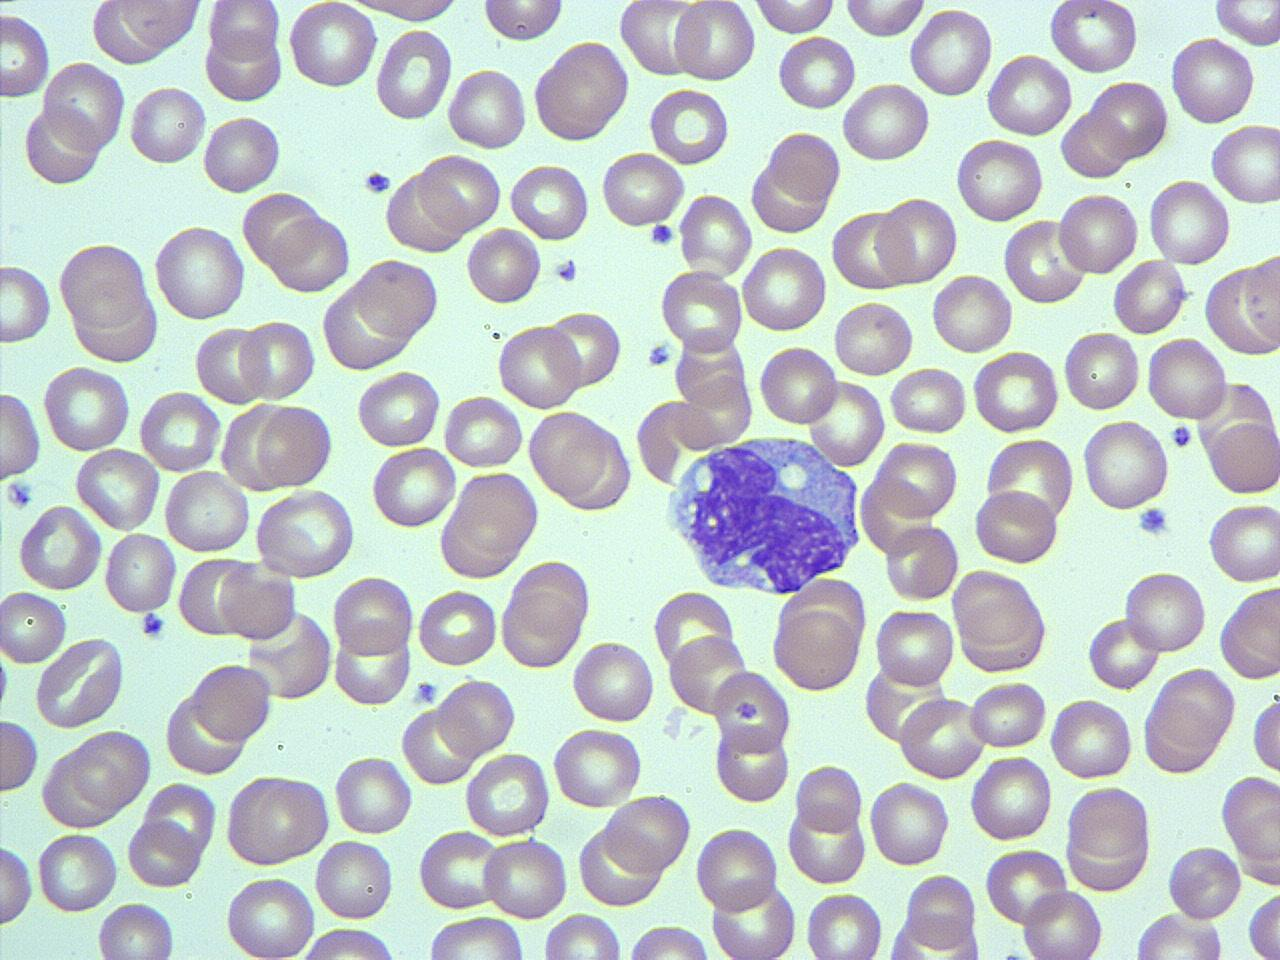Platelets: (1136, 504, 1170, 538), (4, 478, 36, 512), (646, 339, 676, 371), (138, 608, 167, 640), (412, 678, 440, 708), (362, 169, 393, 196), (648, 222, 678, 248), (552, 256, 579, 285), (1170, 423, 1194, 450)
RBC: (532, 38, 632, 144), (949, 566, 1051, 669), (222, 772, 331, 868), (440, 471, 539, 576), (980, 434, 1076, 536), (253, 486, 358, 580), (152, 221, 248, 322), (499, 564, 590, 670), (1081, 416, 1173, 514), (768, 600, 863, 694), (32, 634, 125, 730), (952, 134, 1046, 226), (222, 871, 318, 960), (1168, 33, 1258, 128), (286, 1, 380, 91), (906, 5, 994, 101), (56, 239, 148, 330), (739, 243, 828, 336), (41, 58, 125, 157), (1147, 174, 1233, 270), (41, 362, 132, 452), (368, 442, 458, 532), (15, 501, 104, 593), (840, 78, 932, 165), (692, 824, 780, 916), (1122, 566, 1208, 658), (550, 726, 646, 810), (464, 748, 552, 838), (161, 469, 252, 557), (1001, 214, 1087, 306), (526, 406, 610, 501), (898, 692, 986, 782), (658, 266, 746, 356), (495, 322, 583, 410), (570, 635, 656, 726), (875, 193, 959, 284), (1144, 334, 1230, 424), (1048, 694, 1134, 784), (374, 25, 452, 124), (73, 446, 160, 532), (970, 350, 1059, 435), (969, 753, 1053, 843), (808, 375, 888, 470), (668, 630, 754, 718), (331, 572, 416, 659), (986, 51, 1073, 137), (1055, 189, 1141, 276), (930, 269, 1016, 357), (482, 834, 570, 919), (710, 666, 792, 756), (868, 777, 950, 868), (708, 878, 799, 960), (312, 836, 398, 923), (354, 255, 441, 340), (20, 97, 102, 188), (873, 604, 956, 692), (163, 688, 246, 776), (1152, 666, 1236, 752), (415, 828, 502, 912), (756, 341, 840, 428), (201, 110, 284, 197), (604, 792, 691, 874), (237, 314, 318, 402), (1061, 328, 1143, 415), (354, 368, 442, 449), (255, 402, 335, 492), (1047, 0, 1141, 76), (984, 844, 1068, 928), (446, 65, 529, 150), (786, 800, 868, 886), (678, 190, 754, 282), (417, 151, 502, 234), (35, 829, 118, 914), (831, 296, 916, 379), (600, 149, 686, 230), (127, 82, 208, 168), (972, 488, 1061, 566), (138, 389, 222, 472), (876, 438, 959, 520), (416, 585, 499, 669), (270, 212, 352, 296), (191, 659, 273, 744), (672, 1, 757, 83), (332, 622, 412, 708), (830, 206, 910, 292), (464, 223, 544, 308), (562, 422, 634, 516), (332, 754, 413, 836), (103, 530, 179, 617), (1068, 784, 1150, 864), (1091, 77, 1169, 160), (508, 161, 592, 240), (400, 702, 478, 787), (438, 675, 518, 756), (648, 86, 730, 165), (776, 33, 858, 113), (218, 560, 296, 642), (617, 0, 700, 78), (884, 519, 962, 603), (75, 727, 152, 810), (1020, 884, 1105, 960), (1165, 840, 1243, 922), (194, 322, 268, 406), (1140, 698, 1220, 776), (714, 723, 790, 805), (442, 392, 525, 468), (1110, 256, 1188, 335), (1209, 119, 1279, 208), (905, 870, 979, 954), (1207, 499, 1279, 585), (549, 308, 623, 390), (966, 678, 1048, 750), (767, 127, 844, 205), (1219, 583, 1279, 680), (803, 888, 885, 960), (204, 32, 284, 104), (887, 365, 969, 436), (0, 584, 69, 668), (1087, 614, 1161, 692), (1207, 417, 1279, 497), (125, 816, 201, 888), (1221, 772, 1279, 864), (794, 760, 865, 836), (94, 898, 178, 960), (424, 912, 530, 959), (0, 7, 53, 101), (206, 0, 283, 64), (1129, 910, 1227, 960), (1059, 109, 1129, 179), (882, 913, 984, 960), (1, 258, 54, 348), (114, 0, 203, 50), (0, 388, 44, 484), (540, 909, 624, 959), (1240, 251, 1280, 354), (480, 0, 566, 46), (299, 925, 406, 960), (841, 0, 929, 41), (0, 712, 40, 796), (1211, 1, 1279, 50), (624, 923, 712, 960), (750, 0, 840, 35), (0, 838, 34, 930), (1248, 696, 1280, 772), (1246, 888, 1280, 959)
WBC: (662, 432, 868, 598)
